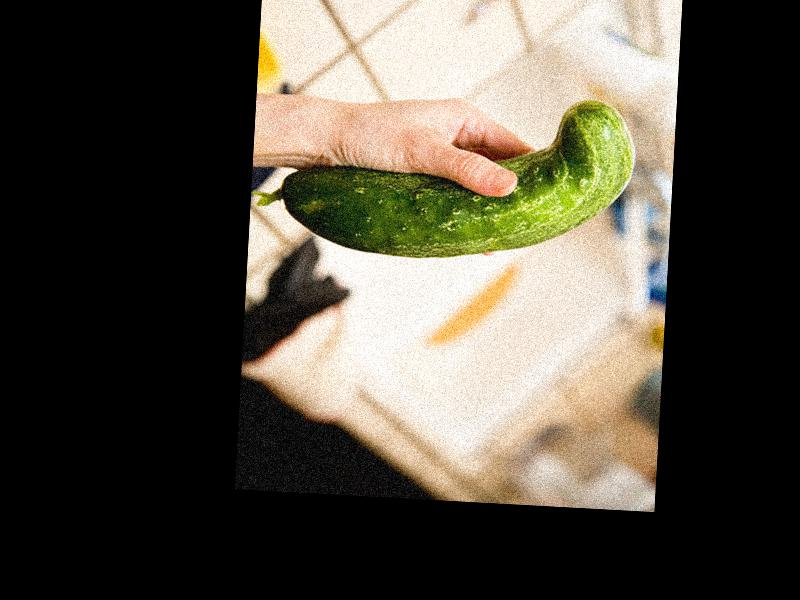Cucumber: (254, 82, 638, 270)
